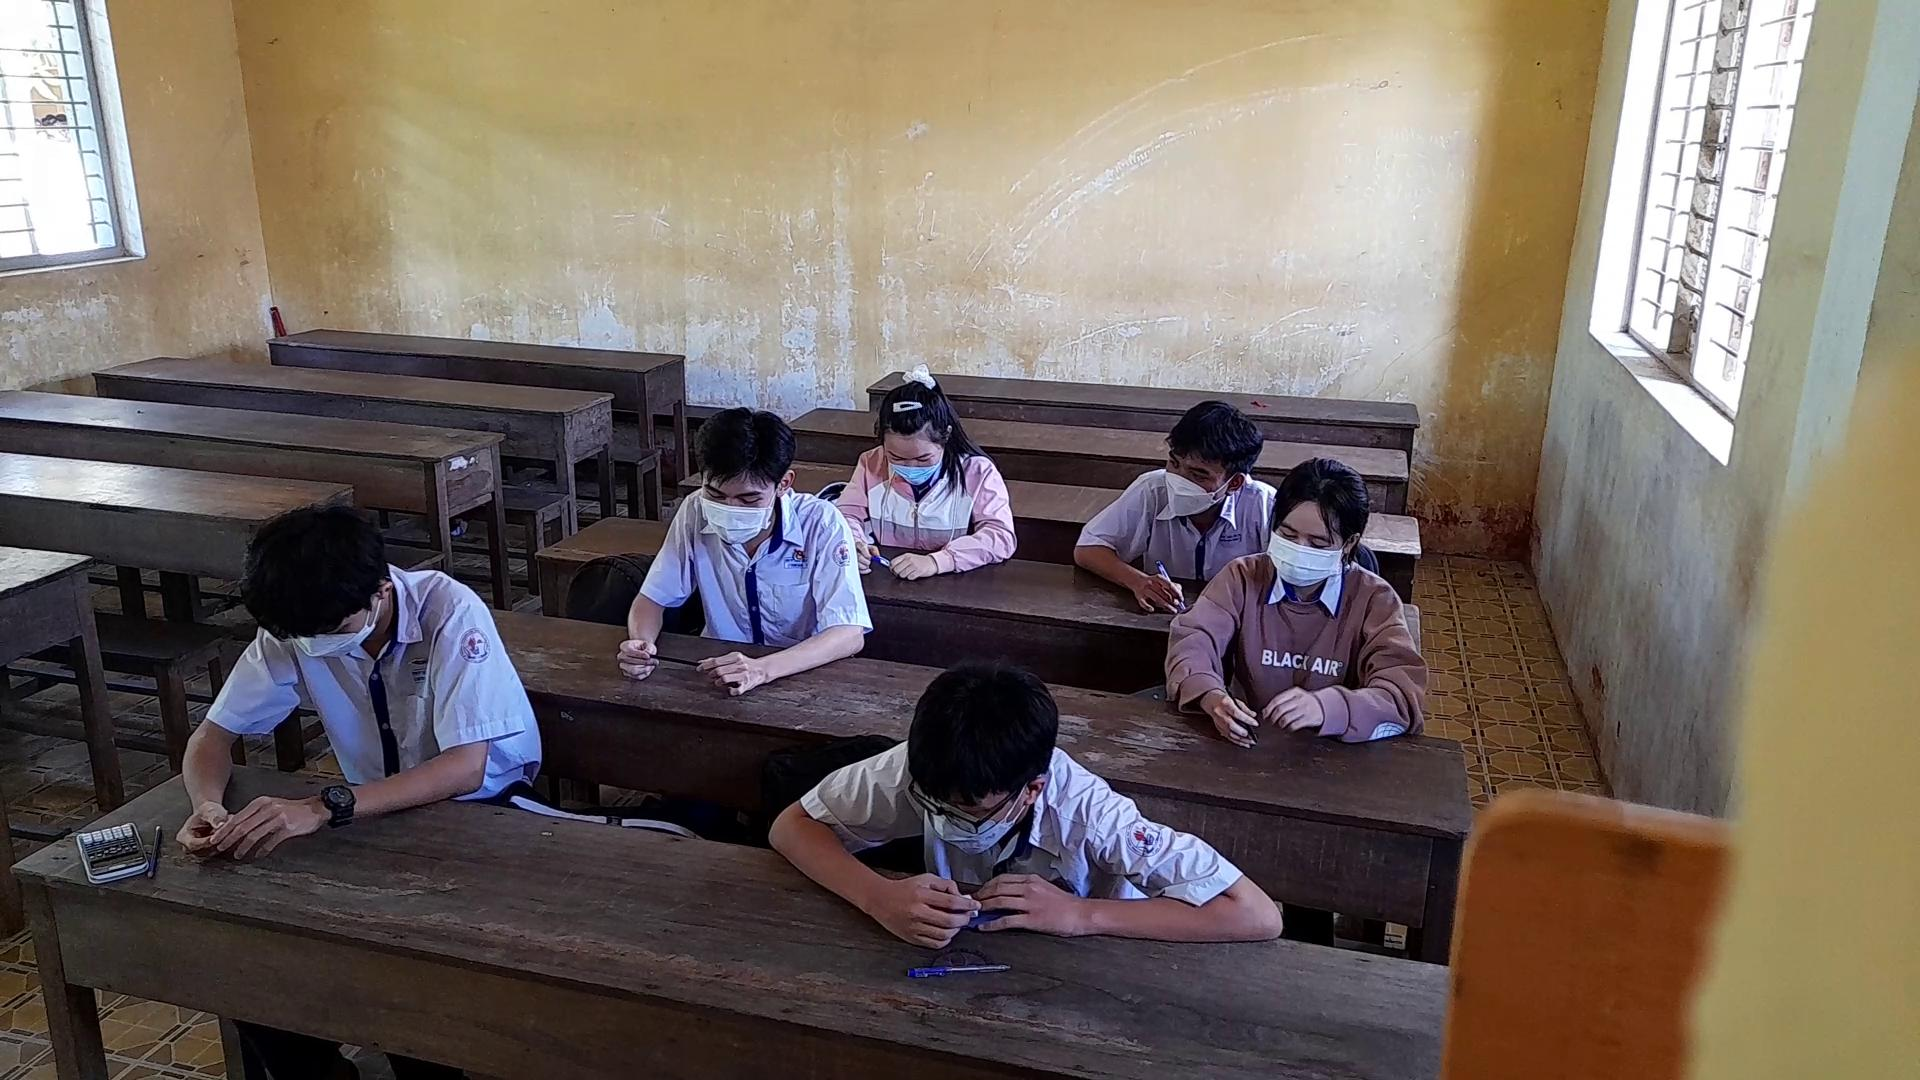Bend Over The Desk: (229, 495, 422, 676), (841, 343, 1000, 505)
Look Around: (1145, 393, 1263, 526)
Normal: (1191, 469, 1447, 779), (618, 413, 880, 694)
